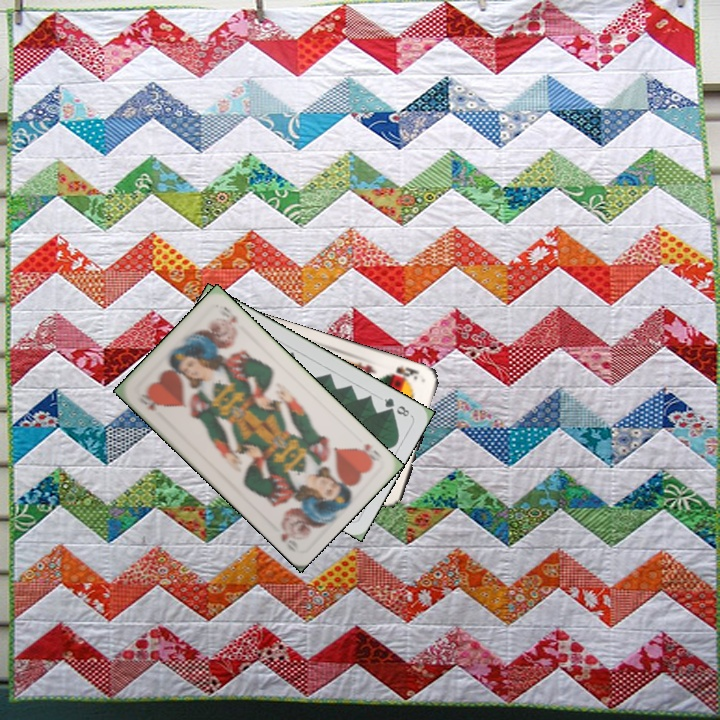G8: (380, 394, 412, 419)
HO: (351, 439, 385, 467), (132, 389, 161, 414)
SK: (384, 361, 422, 383)
